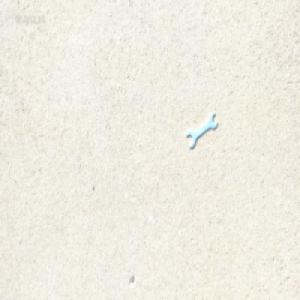Wrench: (186, 113, 217, 148)
